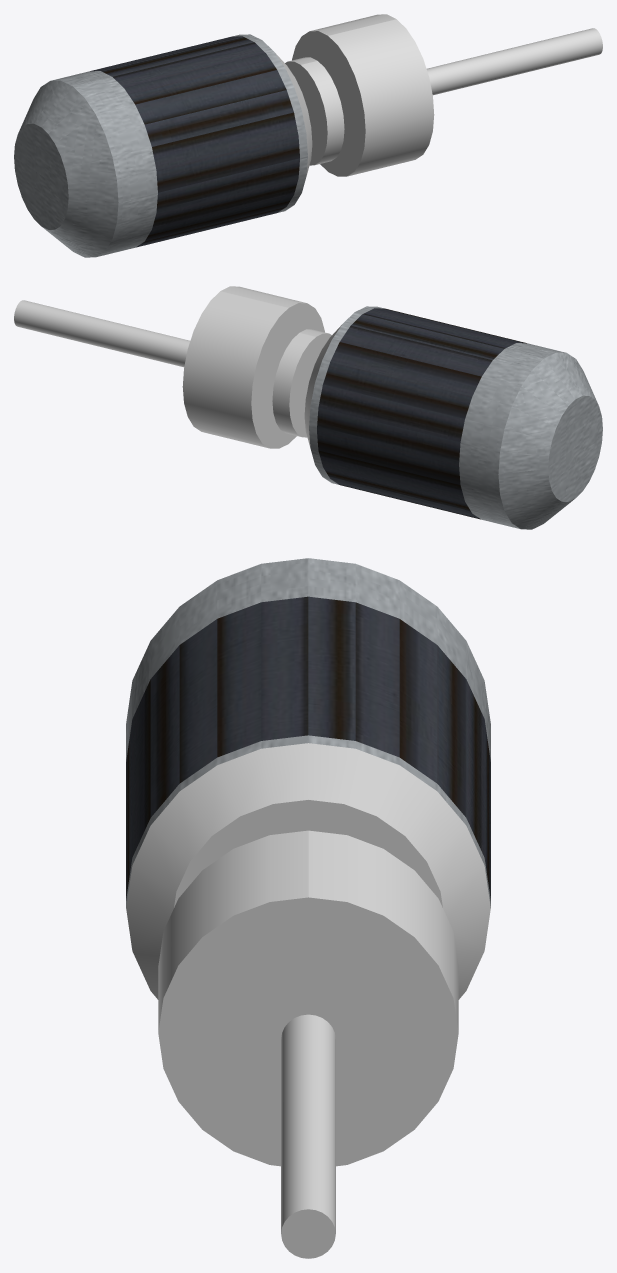
File: 给料电机.glb
3 renders of one model, top to bottom at view 1: azimuth 30°, elevation 25°; view 2: azimuth 150°, elevation 25°; view 3: azimuth 270°, elevation 25°, orthographic. The views are drawn at different scales.
Size of the model in its own units: 0.7509 by 0.2138 by 0.2138.
3 materials, 2 textured.
